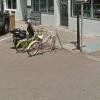Bicycle: (10, 23, 63, 57)
